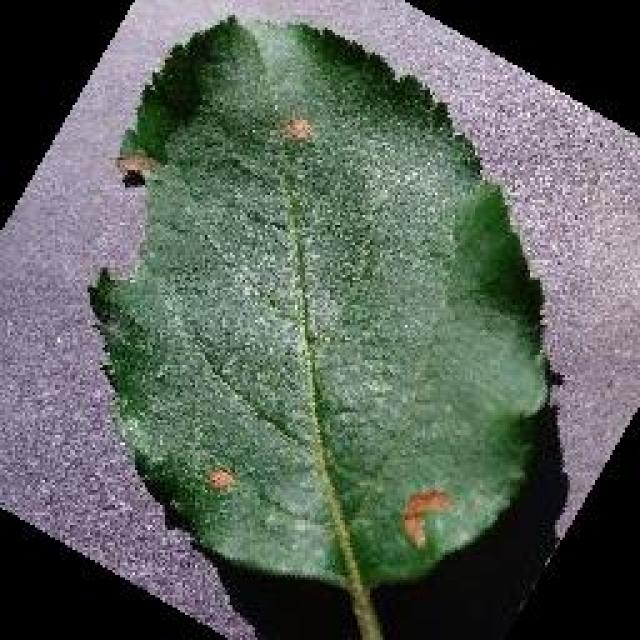apple black rot: (85, 12, 557, 592)
